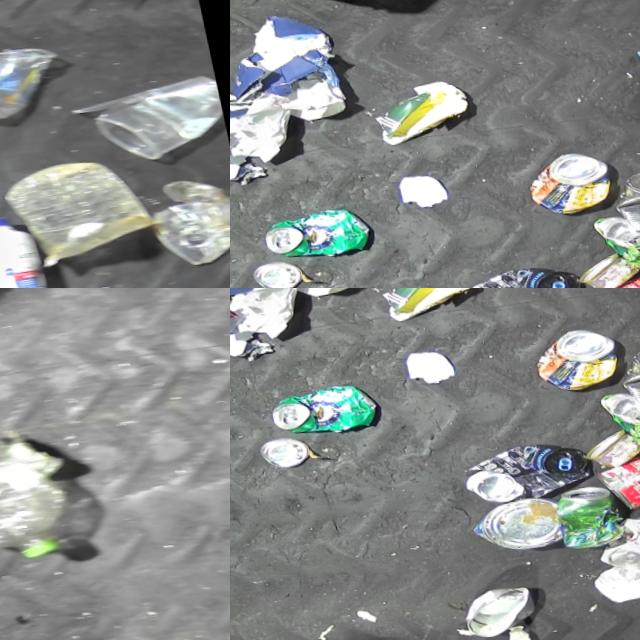can: (451, 432, 590, 508), (253, 200, 370, 264), (260, 376, 377, 440), (518, 144, 614, 217), (525, 320, 621, 393), (461, 490, 559, 556), (544, 477, 622, 548), (446, 580, 531, 640), (585, 426, 640, 512), (444, 256, 583, 288), (584, 504, 640, 570), (587, 206, 640, 269), (603, 154, 640, 234), (576, 422, 640, 468), (569, 246, 639, 288), (594, 382, 640, 445), (610, 330, 640, 410), (252, 433, 307, 471), (244, 256, 300, 288)
plastic_bottle: (0, 417, 74, 570)
